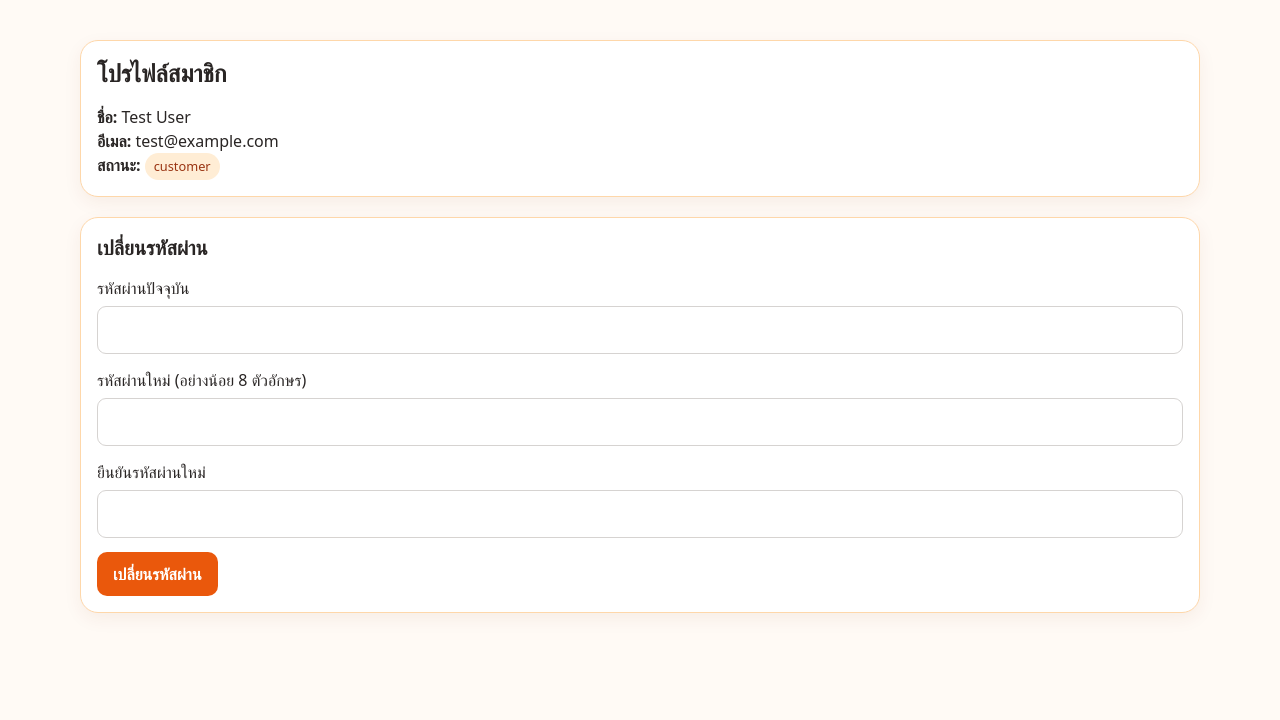
it: Profile password change › submits a matching new password and confirms success
In the password field labelled "รหัสผ่านปัจจุบัน": (640, 330) 97,306 -> 1183,354, type "old-password"
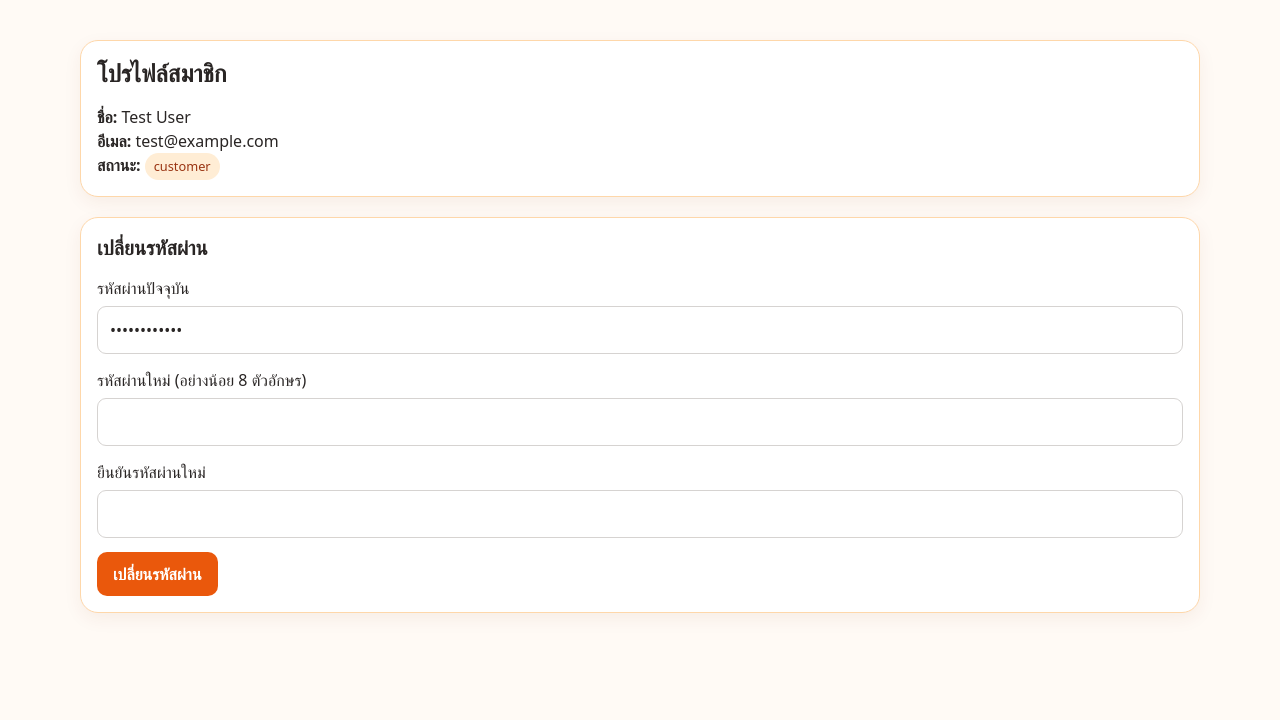
In the password field labelled "รหัสผ่านใหม่ (อย่างน้อย 8 ตัวอักษร)": (640, 422) 97,398 -> 1183,446, type "new-password"
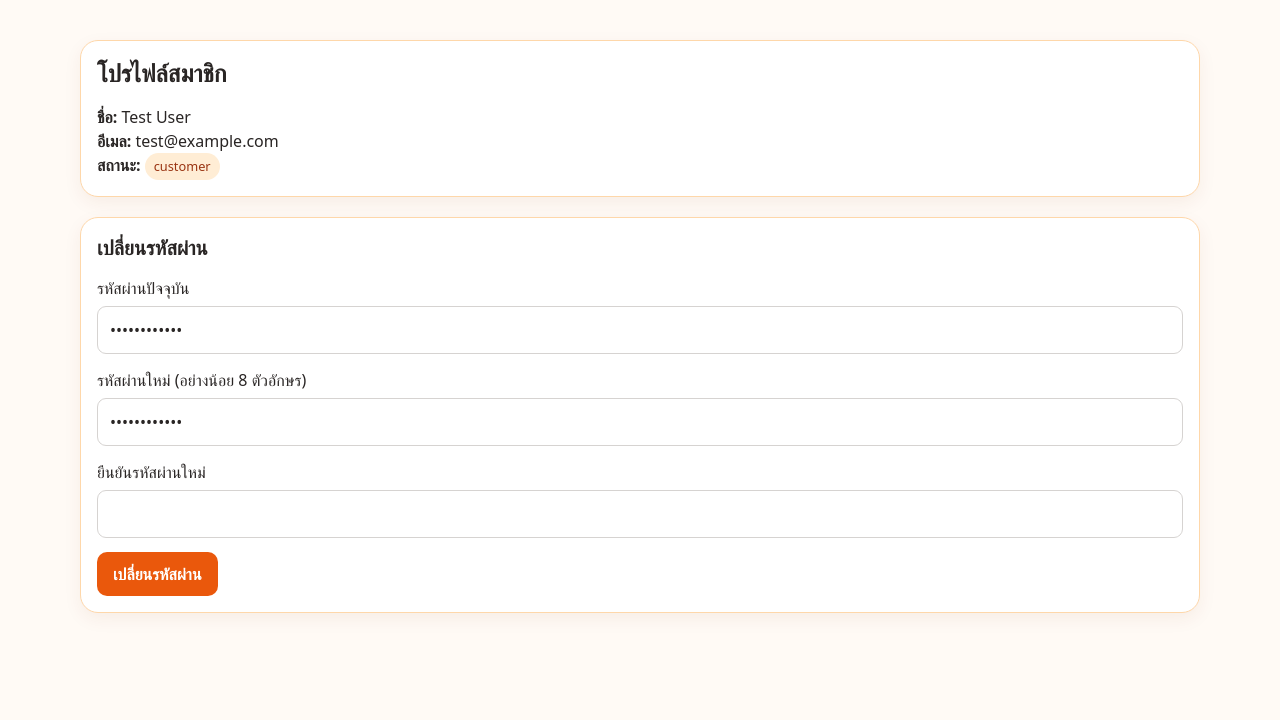
In the password field labelled "ยืนยันรหัสผ่านใหม่": (640, 514) 97,490 -> 1183,538, type "new-password"
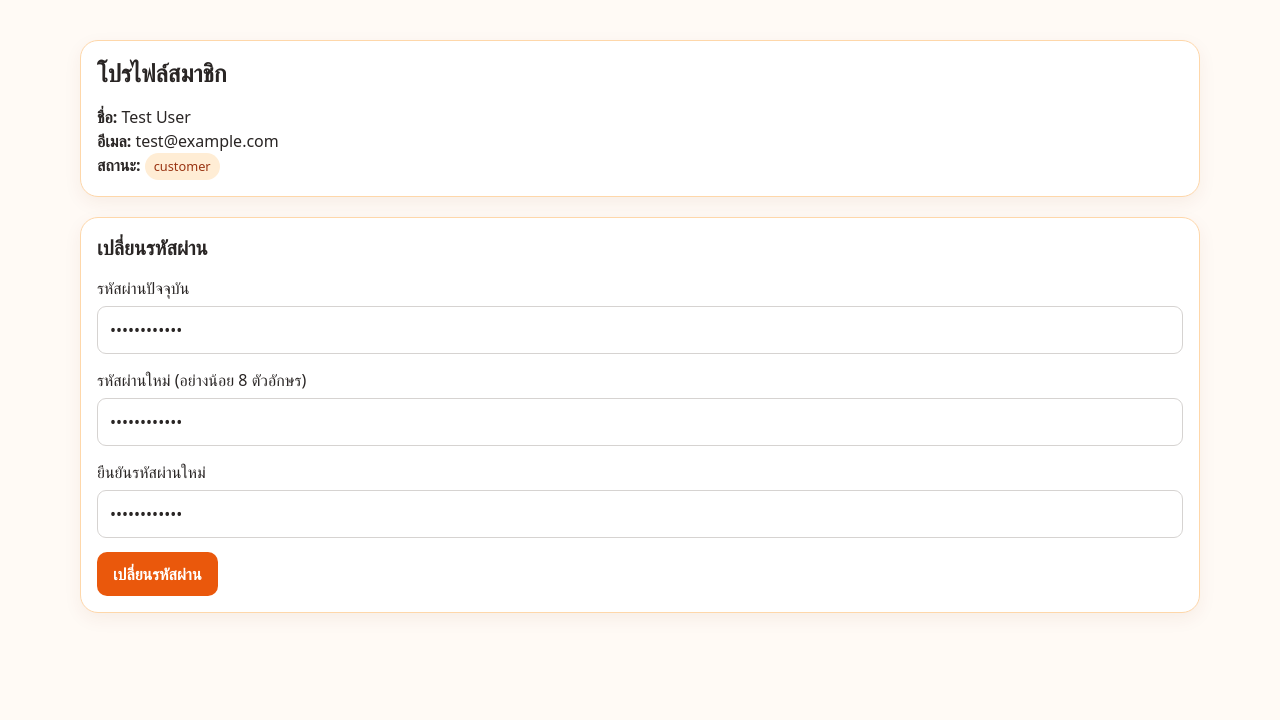
Click the button "เปลี่ยนรหัสผ่าน": (157, 574) 97,552 -> 218,596
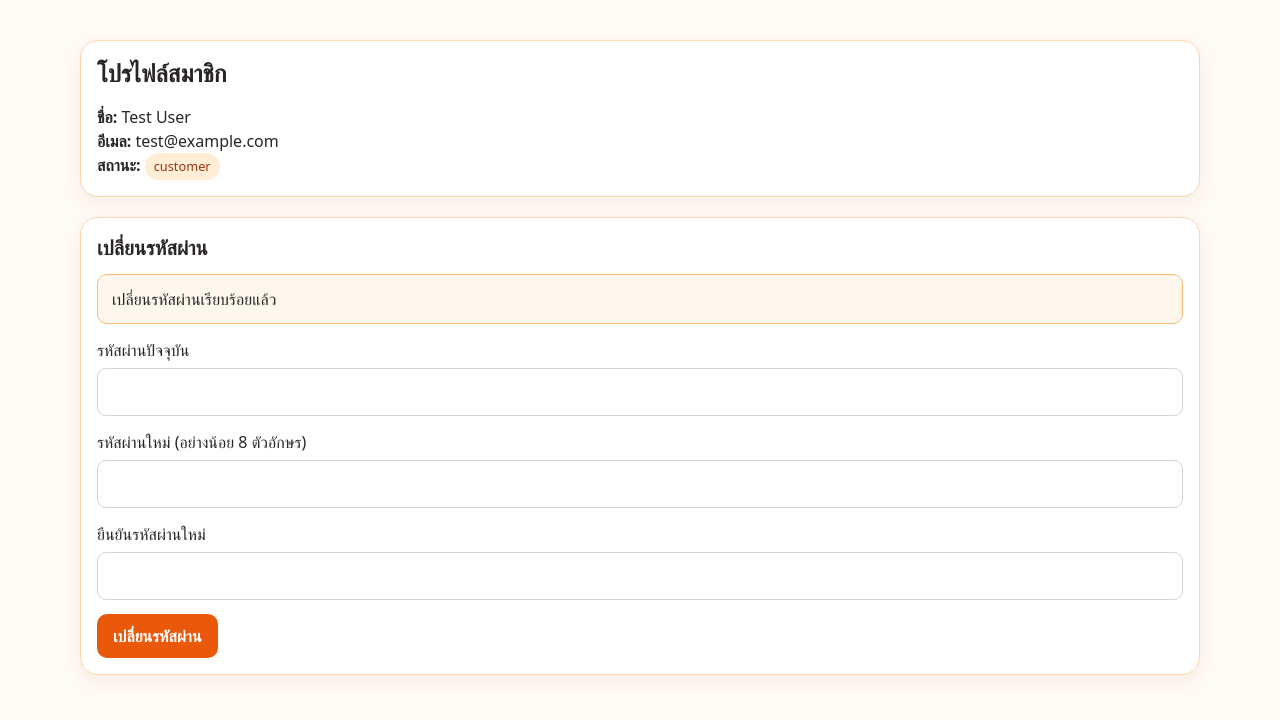
Expected: the message reads "เปลี่ยนรหัสผ่านเรียบร้อยแล้ว", 112,288 -> 276,310
